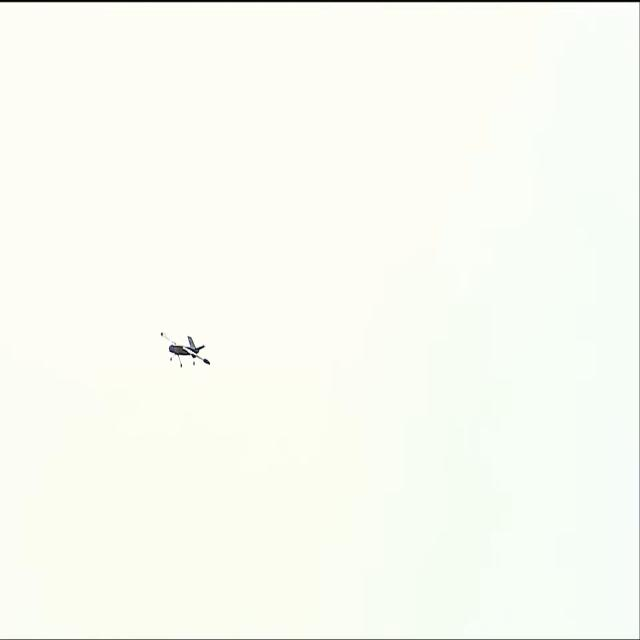iha: (158, 330, 210, 369)
